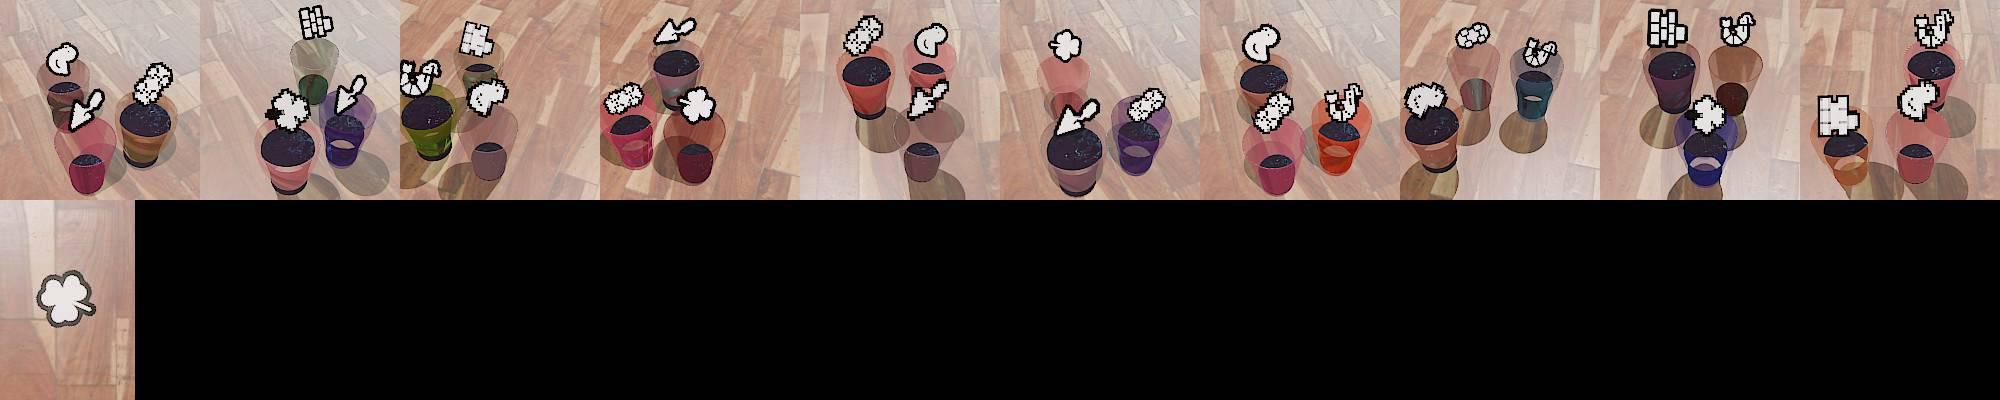icon: (34, 270, 97, 329), (1052, 96, 1103, 138), (1253, 85, 1296, 134), (267, 87, 312, 131), (842, 13, 885, 57), (1323, 82, 1365, 127), (131, 62, 175, 106), (1816, 94, 1858, 138), (1913, 9, 1957, 50), (68, 87, 106, 132), (1686, 94, 1728, 135), (906, 79, 949, 118), (399, 59, 443, 98), (1404, 80, 1450, 117), (1647, 8, 1687, 48), (467, 79, 509, 118), (1897, 82, 1937, 121), (1242, 23, 1282, 64), (333, 73, 370, 116), (1126, 87, 1167, 125), (602, 80, 645, 116), (652, 15, 698, 48), (677, 85, 717, 124), (458, 20, 495, 57), (913, 20, 950, 57), (297, 4, 334, 41), (1717, 13, 1755, 47), (1520, 36, 1559, 69), (1047, 28, 1082, 62), (46, 42, 79, 75), (1455, 22, 1492, 50)
